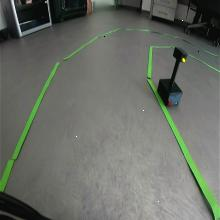green: (174, 46, 189, 65)
